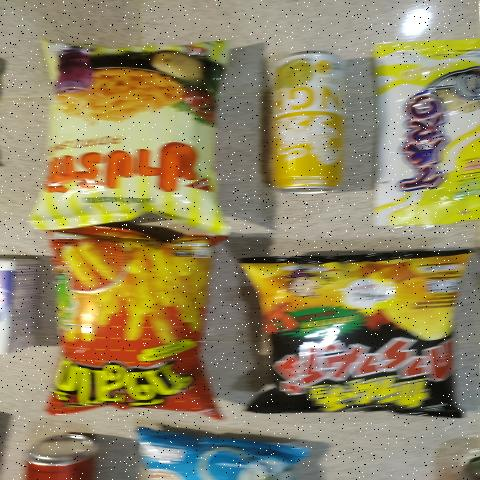karamujo: (244, 258, 464, 415)
paprika: (51, 52, 212, 213)
singha_yellow: (251, 52, 346, 200)
twisco: (50, 243, 221, 419)
